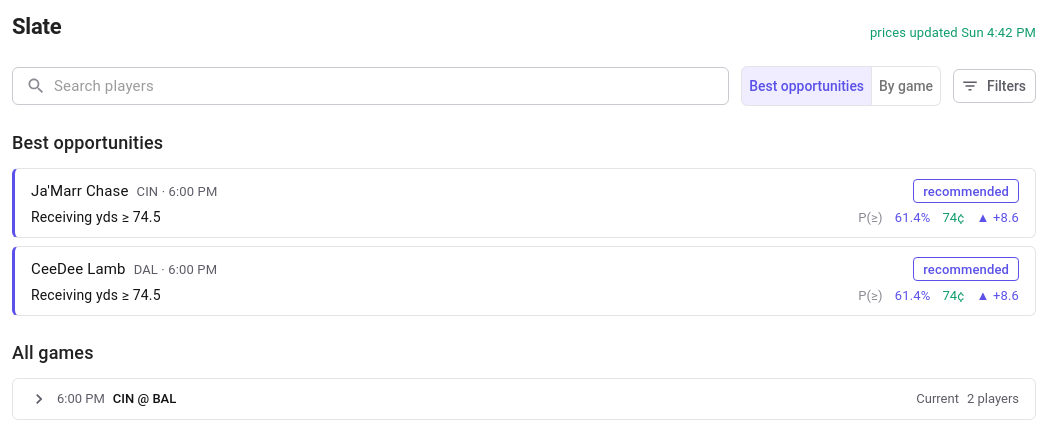
Slate search & filters (SIG-97 — selection over loaded rows) › a zero-result search yields the empty state and changes NO probability
expect the 1st text "61.4%" is shown: met, box [895,209,930,227]
Type "no-such-player" into the field labelled "Search players" at [392, 86], box [54,67,729,106]
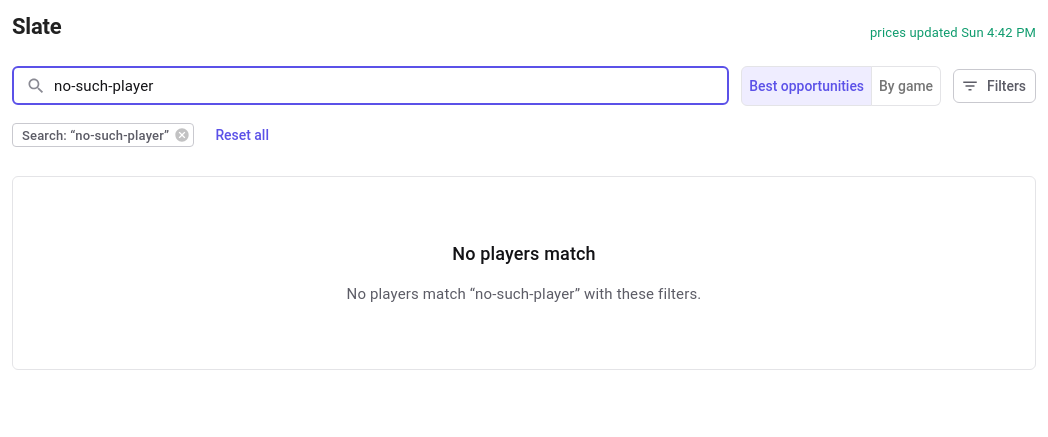
expect the heading "No players match" is shown: met, box [452,241,596,267]
expect the link "61.4%" is gone: met
expect the link "%" is gone: met
